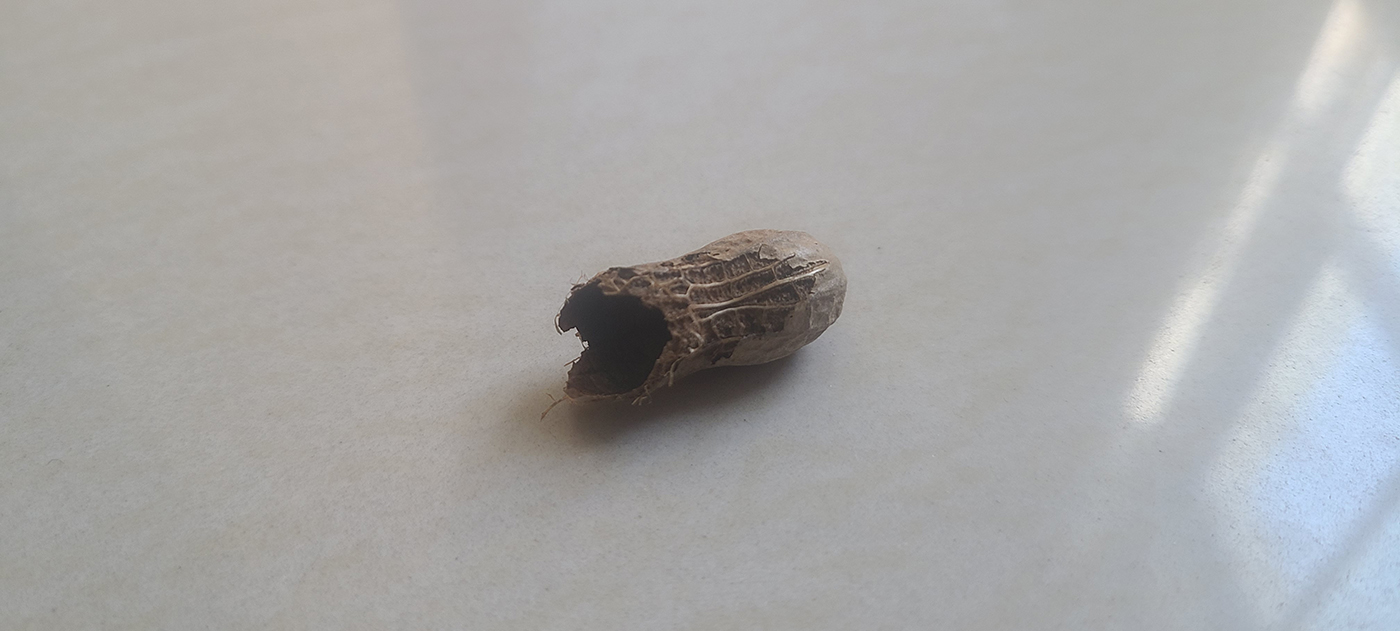l: (556, 227, 847, 410)
